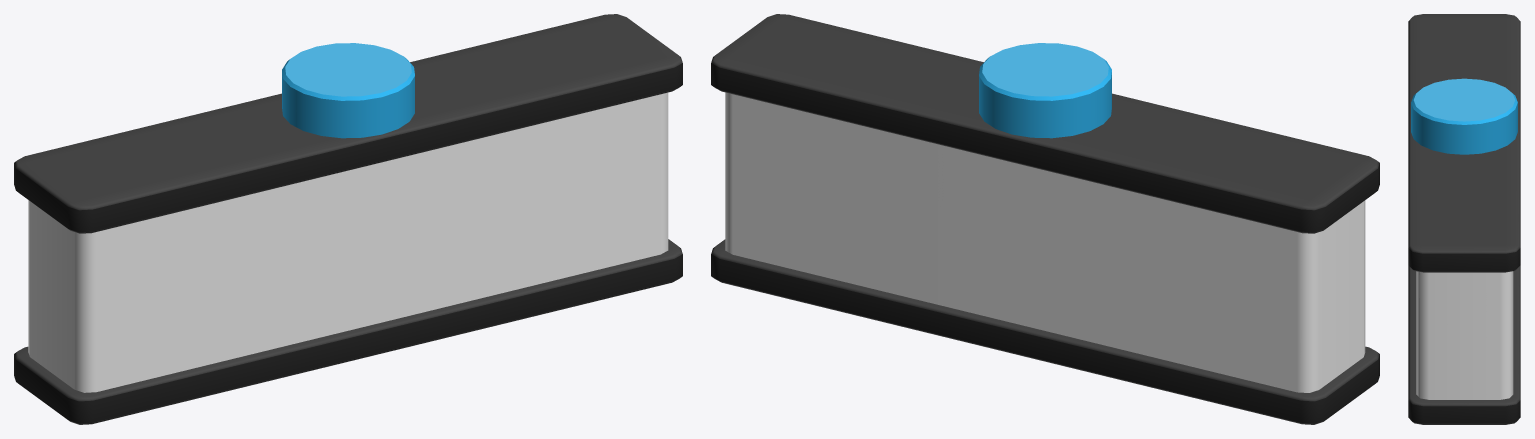
Rendered from Glass6x.fbx.
3 renders of one model, left to right at view 1: azimuth 30°, elevation 25°; view 2: azimuth 150°, elevation 25°; view 3: azimuth 270°, elevation 25°, orthographic. The views are drawn at different scales.
Parts seen in each view (by area): view 1: Glass_trans, Vach2, Vach1, pedestal; view 2: Glass_trans, Vach2, Vach1, pedestal; view 3: Vach2, Glass_trans, pedestal, Vach1.
Part boxes in pixels (x1,y1,x2,y2): Glass_trans: [28, 92, 668, 392]; Vach2: [14, 14, 682, 233]; Vach1: [14, 239, 682, 424]; pedestal: [282, 43, 414, 138]; Glass_trans: [725, 92, 1365, 392]; Vach2: [711, 14, 1379, 233]; Vach1: [711, 239, 1379, 424]; pedestal: [979, 43, 1111, 138]; Vach2: [1408, 14, 1520, 272]; Glass_trans: [1416, 271, 1513, 399]; pedestal: [1411, 78, 1517, 154]; Vach1: [1408, 265, 1520, 424].
Size of the model in its own units: 1554 by 628 by 309.
